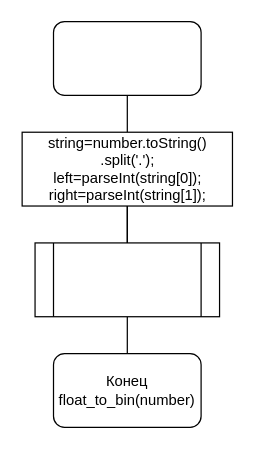
Some shapes in this 253 by 449 pixel diagram are drawn without their labels. Here are the shapes that lost their labels. From the top down, the centre of each, then its label:
the point at 126,57: Начало float_to_bin(number)
the point at 127,279: return left_to_bin(left) +'.'+ right_to_bin(right);
